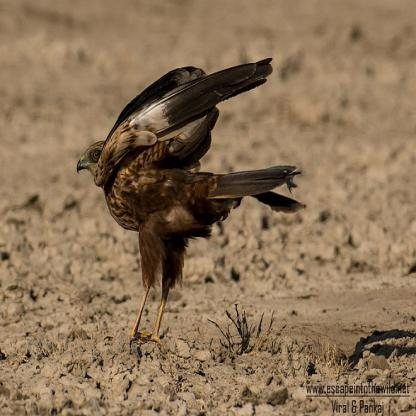Burung: (74, 54, 304, 348)
